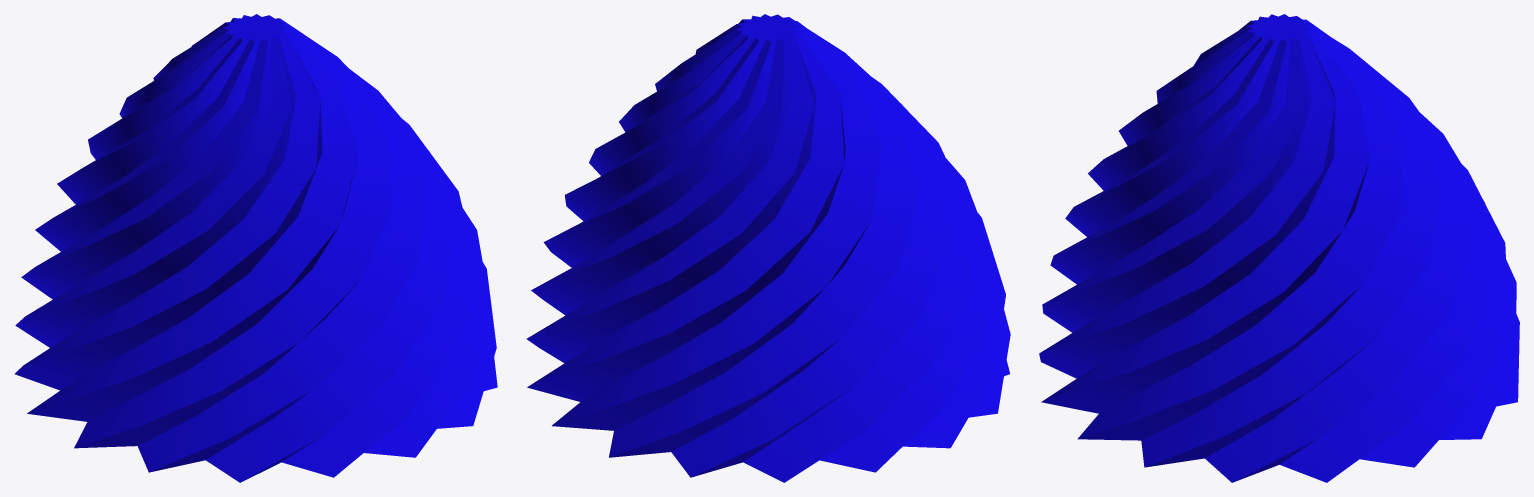
File: spawner_core.fbx
3 views of the same model, side by side, from view 1: azimuth 30°, elevation 25°; view 2: azimuth 150°, elevation 25°; view 3: azimuth 270°, elevation 25° (orthographic).
Parts seen in each view (by area): view 1: Spawner Core; view 2: Spawner Core; view 3: Spawner Core.
Part boxes in pixels (x1,y1,x2,y2): Spawner Core: (14,14,497,482); Spawner Core: (526,14,1010,482); Spawner Core: (1039,14,1519,482).
Size of the model in its own units: 246 by 200 by 246.
